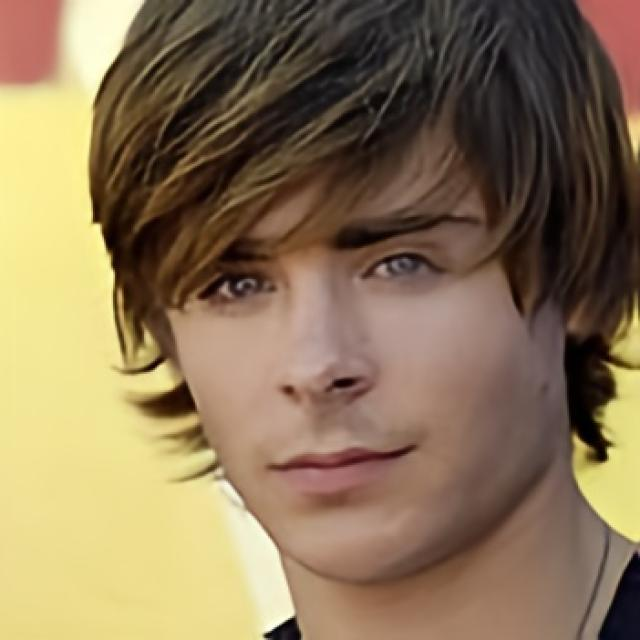content: (148, 94, 562, 585)
